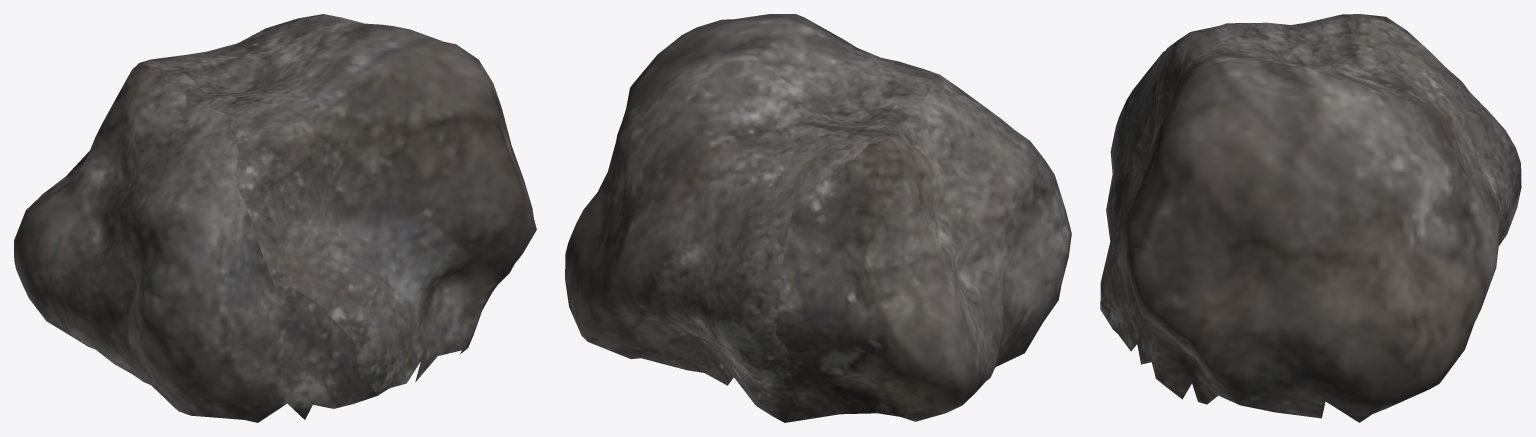
The model's file is N_Rock_8.fbx.
3 views of the same model, side by side, from view 1: azimuth 30°, elevation 25°; view 2: azimuth 150°, elevation 25°; view 3: azimuth 270°, elevation 25° (orthographic).
Parts seen in each view (by area): view 1: Large_1; view 2: Large_1; view 3: Large_1.
Boxes of the visible parts, <box> form: Large_1: <box>14,14,536,422</box>; Large_1: <box>565,14,1071,422</box>; Large_1: <box>1100,14,1521,422</box>.
Bounding box in the file's own units: 495 × 344 × 423.
